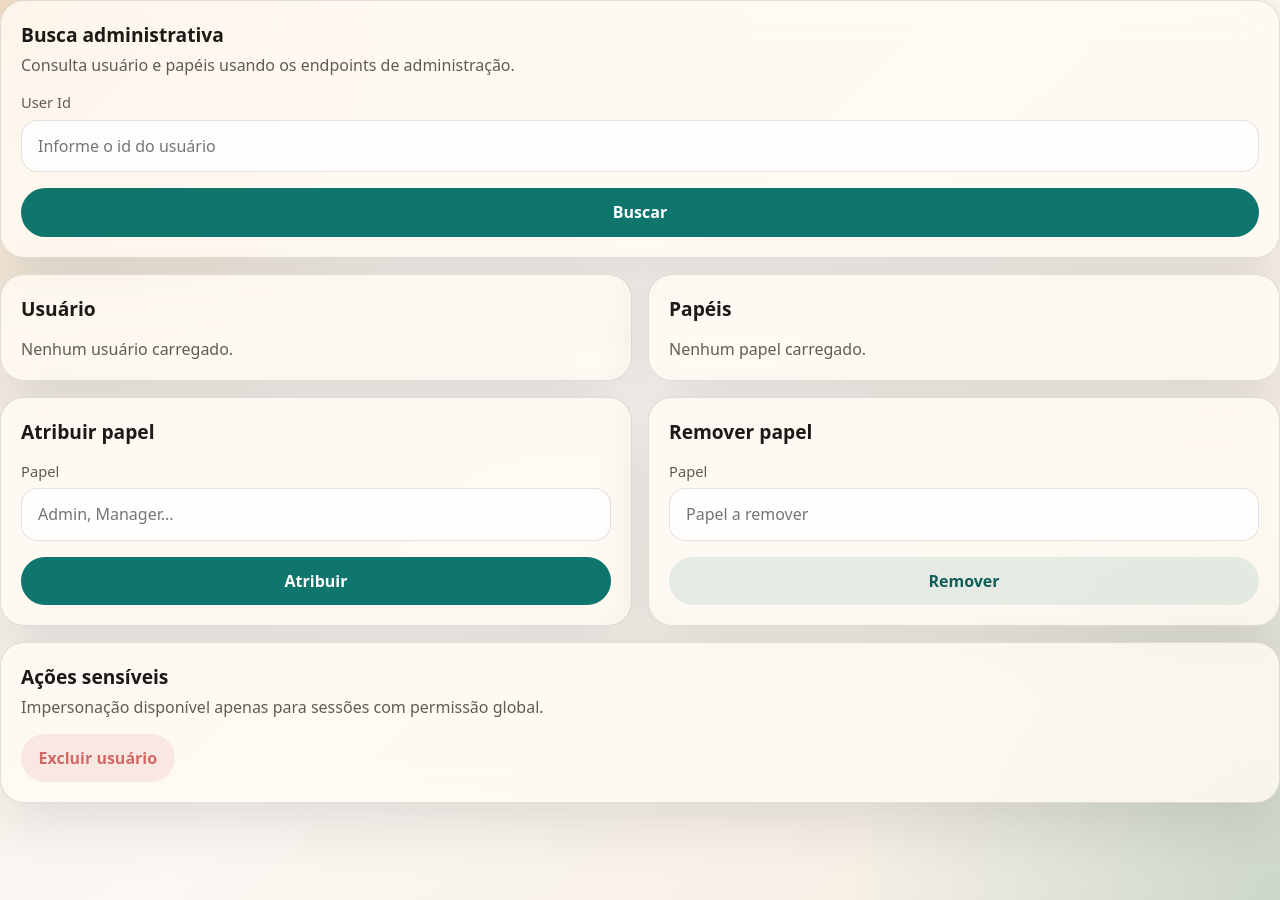
Test: AdminUsersView › consulta usuário e renderiza os papéis carregados
Type "user-1" into the field labelled "User Id" at [640, 146], box [21,120,1259,172]
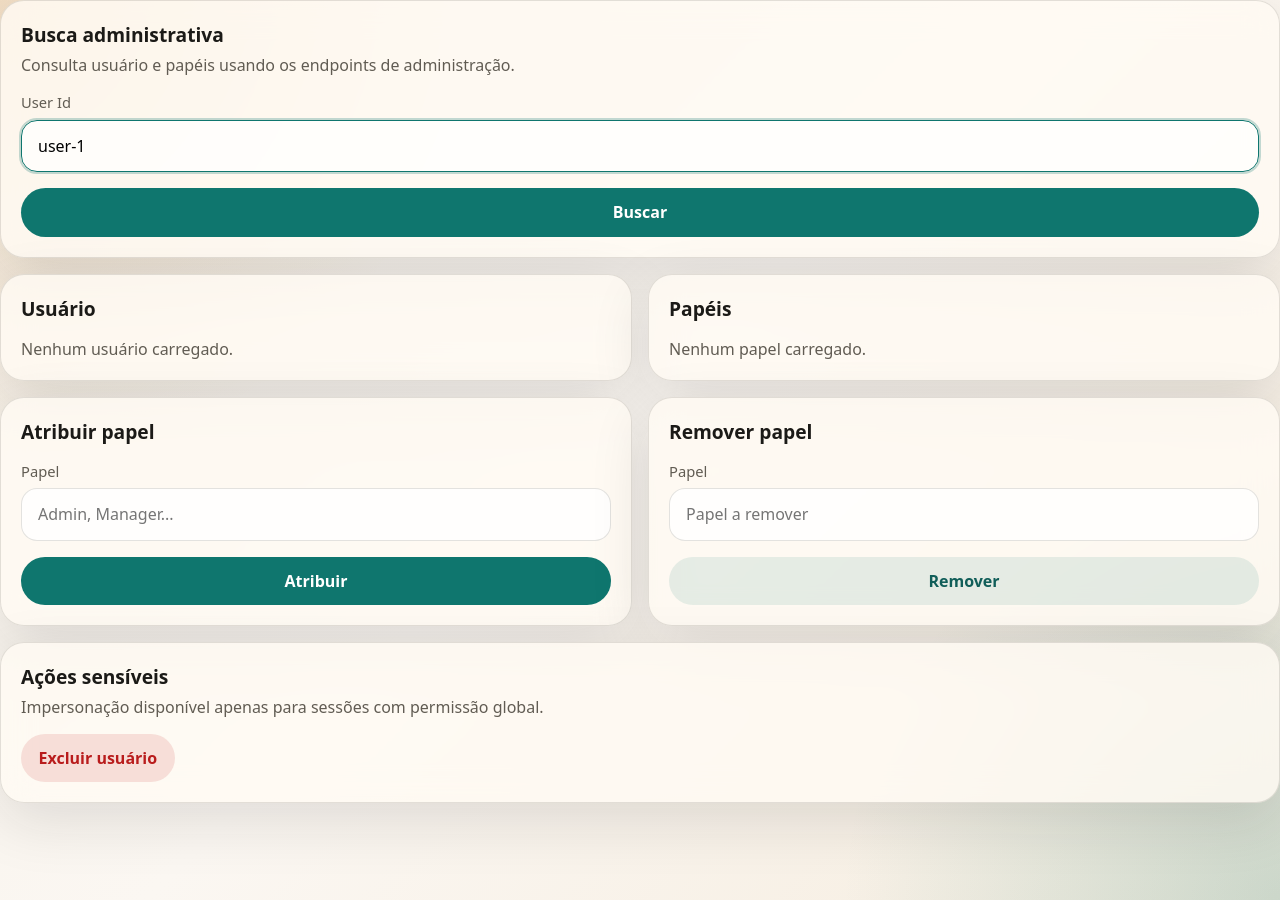
Click the button "Buscar" at [640, 212], box [21,188,1259,237]
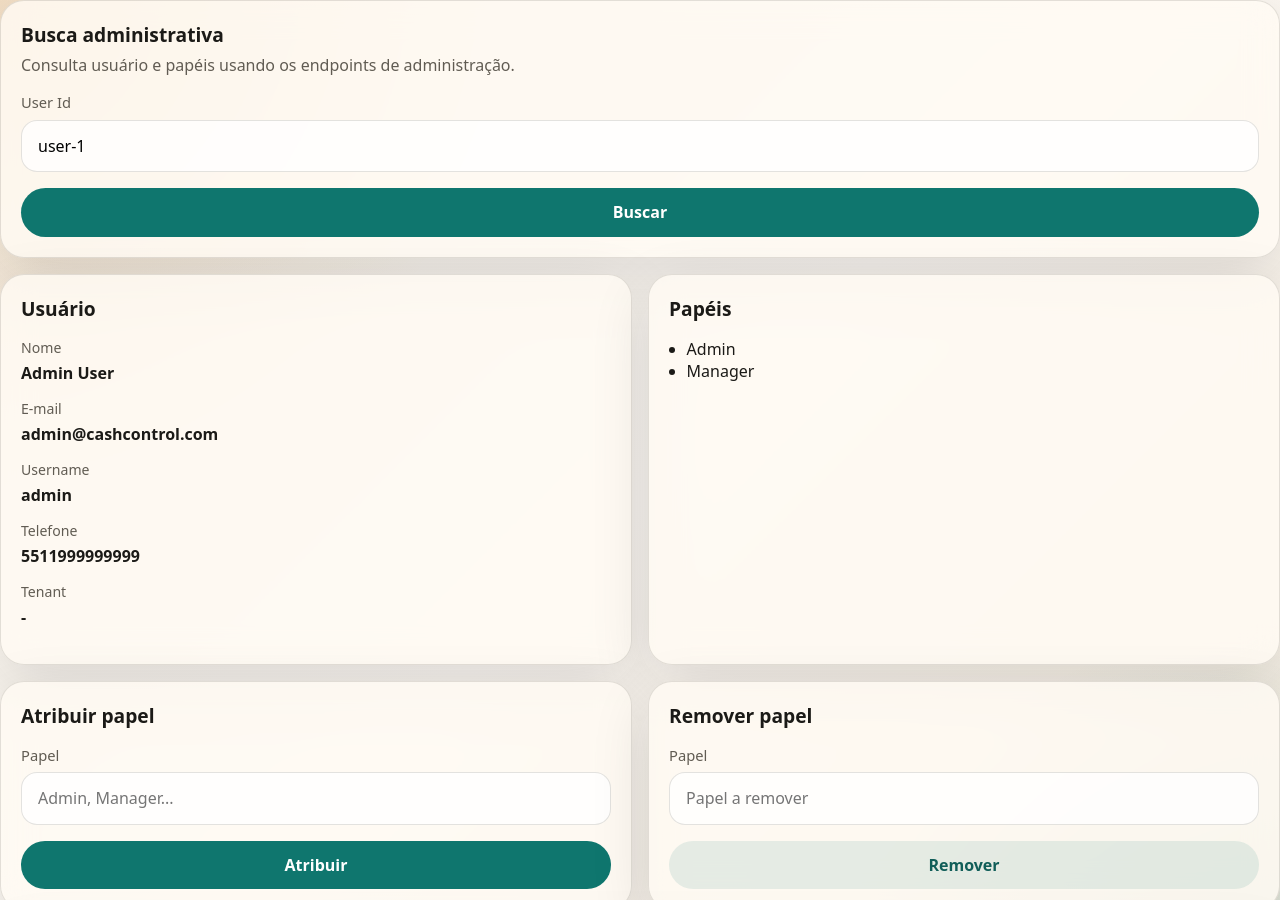
Check: the text "Admin User" is shown, box [21,362,114,384]
Check: the list item "Manager" is shown, box [687,360,754,382]
